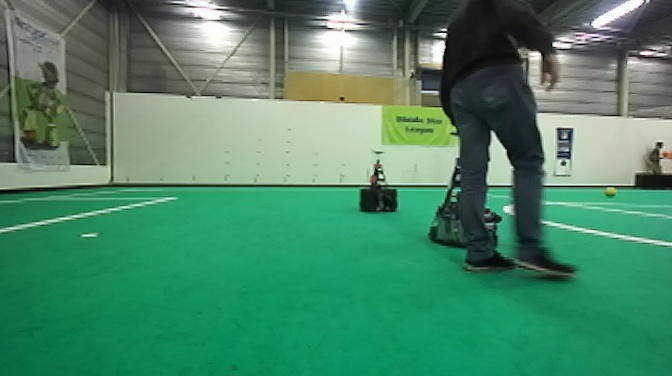ball: (602, 182, 618, 198), (661, 147, 672, 161)
human: (439, 1, 579, 279), (643, 139, 667, 190)
robot: (425, 129, 503, 253), (358, 150, 399, 214)
